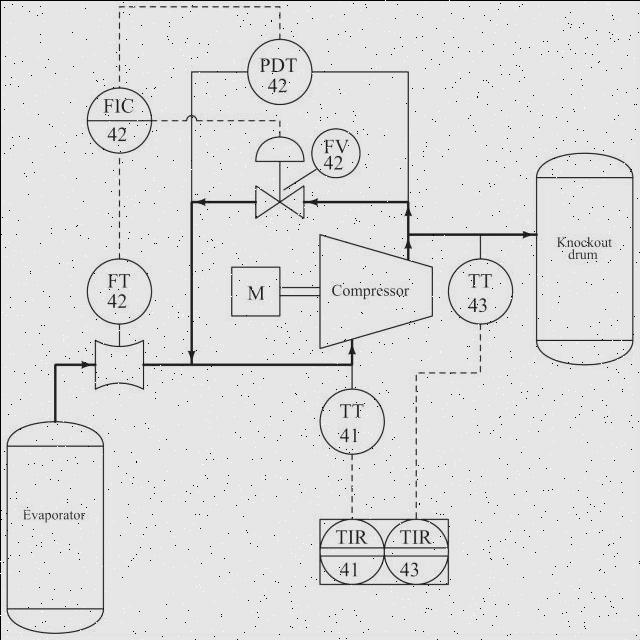Pneumatic-Diaphragm Gate Valve: (242, 132, 308, 222)
